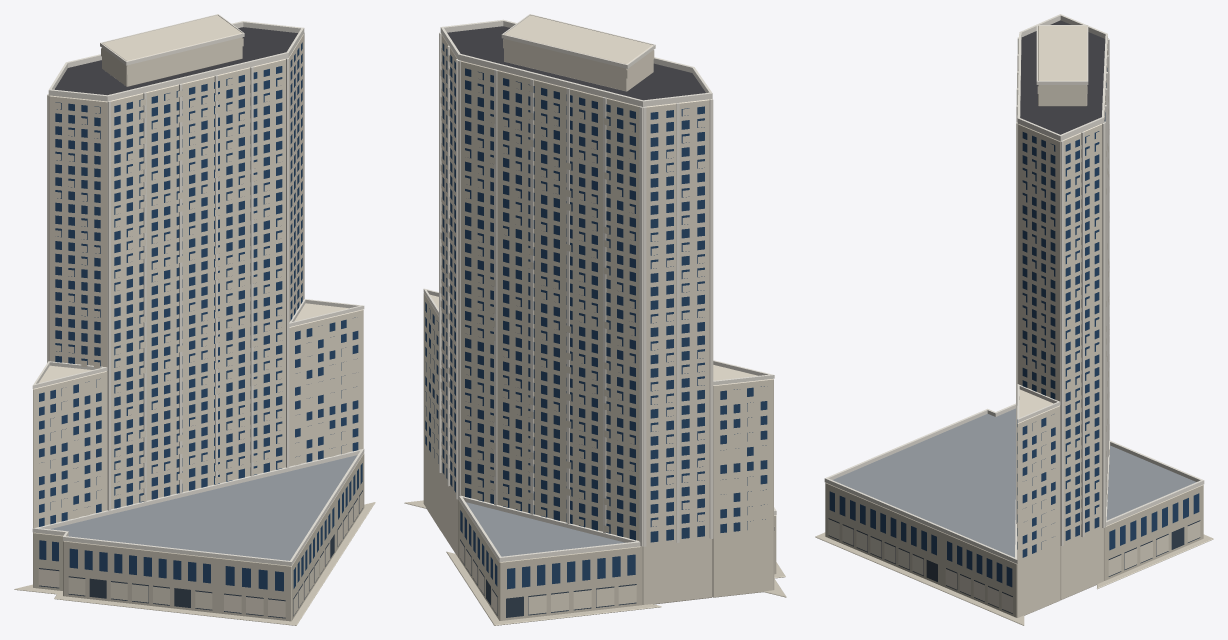
The model's file is 50-3rd-street.glb.
The picture shows the model from 3 angles, left to right: view 1: azimuth 30°, elevation 25°; view 2: azimuth 150°, elevation 25°; view 3: azimuth 270°, elevation 25°; orthographic projection. The views are drawn at different scales.
Visible parts, largest first — view 1: 50-3rd-street_body, 50-3rd-street_night_glow; view 2: 50-3rd-street_body, 50-3rd-street_night_glow; view 3: 50-3rd-street_body, 50-3rd-street_night_glow.
Boxes of the visible parts, x1=… form: 50-3rd-street_body: x1=14, y1=14, x2=375, y2=625; 50-3rd-street_night_glow: x1=38, y1=38, x2=363, y2=617; 50-3rd-street_body: x1=404, y1=14, x2=786, y2=625; 50-3rd-street_night_glow: x1=425, y1=39, x2=767, y2=614; 50-3rd-street_body: x1=815, y1=14, x2=1213, y2=625; 50-3rd-street_night_glow: x1=828, y1=74, x2=1200, y2=613.
Bounding box in the file's own units: 86.85 × 114 × 84.88.
